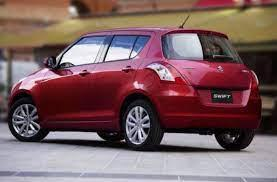Hatchback: (7, 24, 265, 150)
